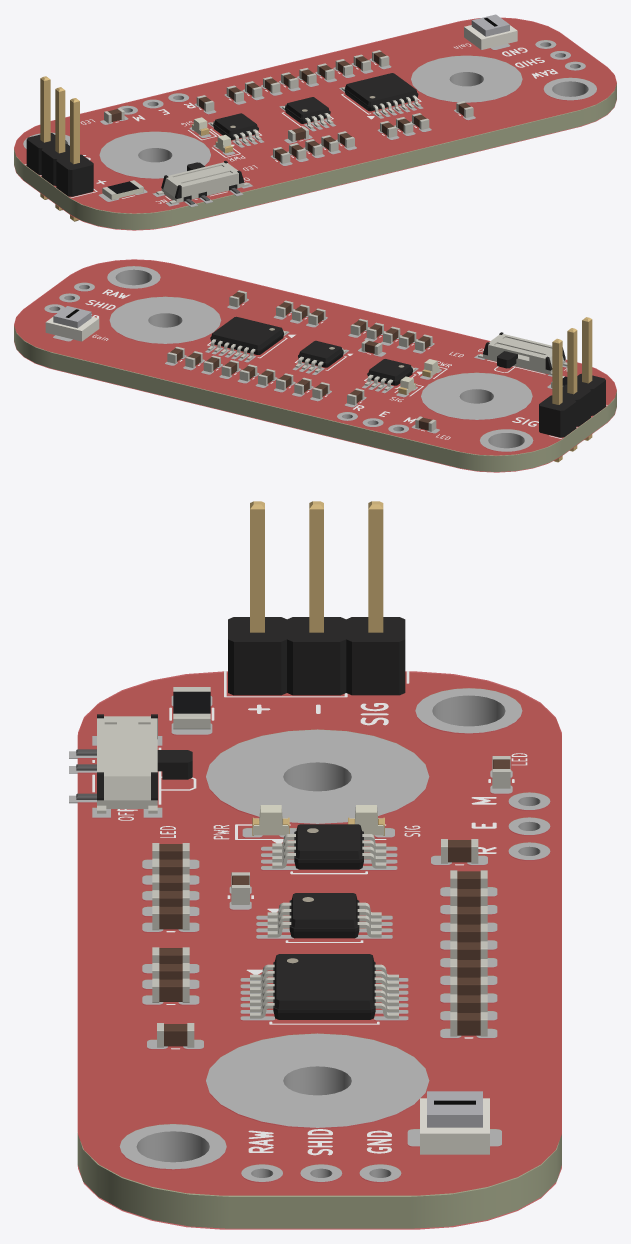
Rendered from myoware.glb.
The picture shows the model from 3 angles, top to bottom: view 1: azimuth 30°, elevation 25°; view 2: azimuth 150°, elevation 25°; view 3: azimuth 270°, elevation 25°; orthographic projection. The views are drawn at different scales.
Parts seen in each view (by area): view 1: =>[0:1:1:23], =>[0:1:1:21], =>[0:1:1:18], =>[0:1:1:13], =>[0:1:1:11], =>[0:1:1:17], =>[0:1:1:3] (×2), =>[0:1:1:15], =>[0:1:1:19], =>[0:1:1:22], =>[0:1:1:9]; view 2: =>[0:1:1:23], =>[0:1:1:21], =>[0:1:1:18], =>[0:1:1:13], =>[0:1:1:17], =>[0:1:1:11], =>[0:1:1:3] (×2), =>[0:1:1:15], =>[0:1:1:19], =>[0:1:1:22]; view 3: =>[0:1:1:23], =>[0:1:1:21], =>[0:1:1:18], =>[0:1:1:13], =>[0:1:1:17], =>[0:1:1:3] (×2), =>[0:1:1:11], =>[0:1:1:19], =>[0:1:1:15], =>[0:1:1:9], =>[0:1:1:7].
Part boxes in pixels (x1,y1,x2,y2): =>[0:1:1:23]: (14,19,616,229); =>[0:1:1:21]: (14,17,616,213); =>[0:1:1:18]: (23,40,596,207); =>[0:1:1:13]: (26,76,93,221); =>[0:1:1:11]: (156,160,249,204); =>[0:1:1:17]: (341,73,420,116); =>[0:1:1:3] (×2): (210,97,333,145); =>[0:1:1:15]: (464,14,517,49); =>[0:1:1:19]: (25,43,557,203); =>[0:1:1:22]: (14,99,616,230); =>[0:1:1:9]: (102,180,143,200); =>[0:1:1:23]: (14,260,616,471); =>[0:1:1:21]: (14,259,616,455); =>[0:1:1:18]: (44,266,567,451); =>[0:1:1:13]: (539,317,605,462); =>[0:1:1:17]: (207,316,286,360); =>[0:1:1:11]: (478,332,567,374); =>[0:1:1:3] (×2): (295,340,415,390); =>[0:1:1:15]: (45,306,99,341); =>[0:1:1:19]: (85,289,607,439); =>[0:1:1:22]: (14,341,616,472); =>[0:1:1:23]: (77,673,561,1228); =>[0:1:1:21]: (77,671,561,1195); =>[0:1:1:18]: (69,688,550,1182); =>[0:1:1:13]: (228,501,405,695); =>[0:1:1:17]: (250,954,398,1019); =>[0:1:1:3] (×2): (267,824,386,938); =>[0:1:1:11]: (76,714,192,813); =>[0:1:1:19]: (92,671,527,1155); =>[0:1:1:15]: (420,1091,489,1154); =>[0:1:1:9]: (173,687,210,729); =>[0:1:1:7]: (252,805,289,835).
Bounding box in the file's own units: 0.0533 × 0.0115 × 0.0212.
